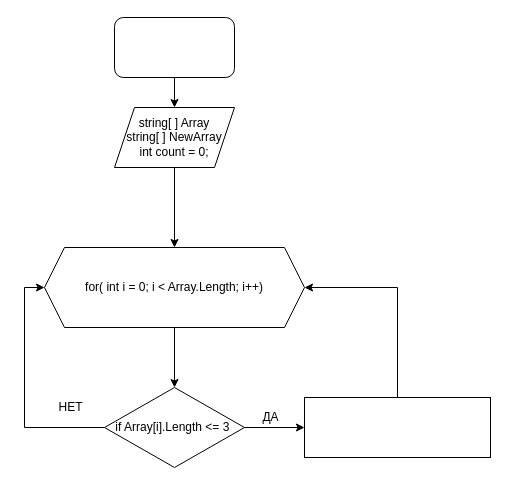
The diagram is 508 pixels wide and 485 high, and some of its shapes have lost their labels. Here are the shapes that lost their labels. From the top down, the box of each, then its label:
(114, 16, 234, 78): Начало
(304, 396, 490, 458): NewArray[count] = Array[i] count++
